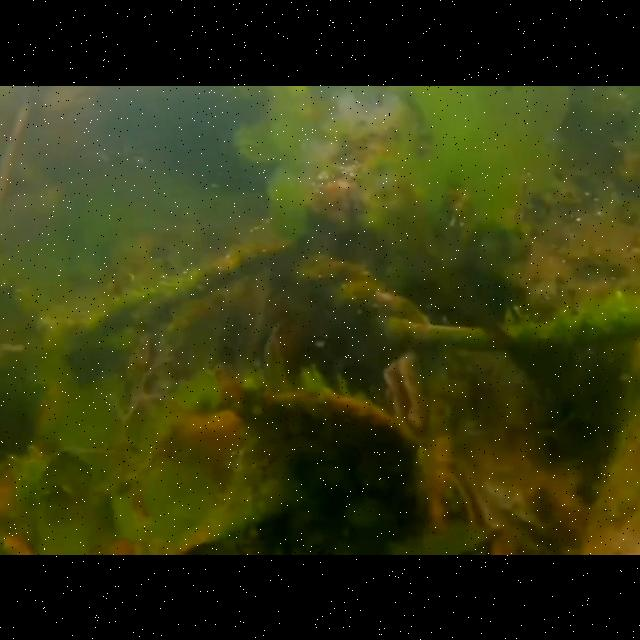Oyster-Closed: (252, 388, 432, 554)
Oyster-Open: (482, 466, 582, 554), (381, 350, 455, 442), (244, 308, 308, 388), (440, 458, 492, 538)
